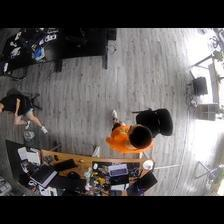normal: (1, 90, 49, 142), (103, 108, 155, 153)
